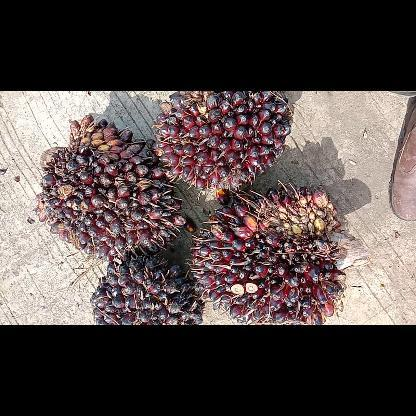TBS mentah: (32, 112, 186, 262), (187, 184, 351, 324), (150, 90, 292, 192), (89, 256, 205, 324)
